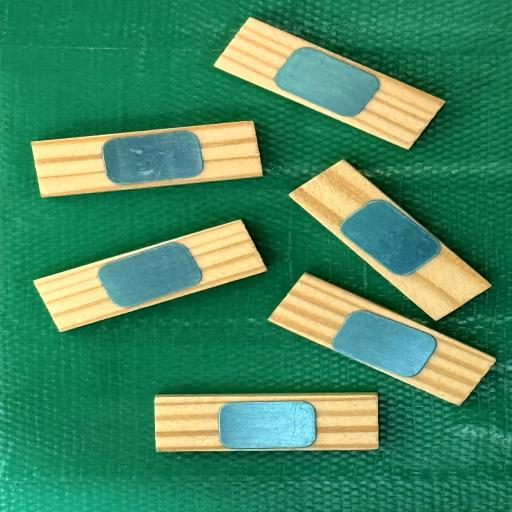objects: (287, 147, 492, 334), (214, 13, 445, 155), (269, 268, 496, 411), (33, 215, 269, 335), (31, 119, 264, 198), (155, 394, 379, 452)
